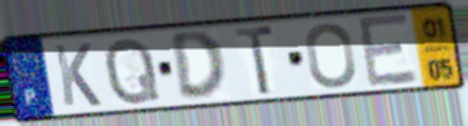D: (168, 28, 229, 103)
E: (354, 11, 421, 92)
K: (51, 41, 104, 109)
O: (303, 20, 359, 91)
Q: (102, 35, 163, 108)
T: (232, 24, 277, 99)
